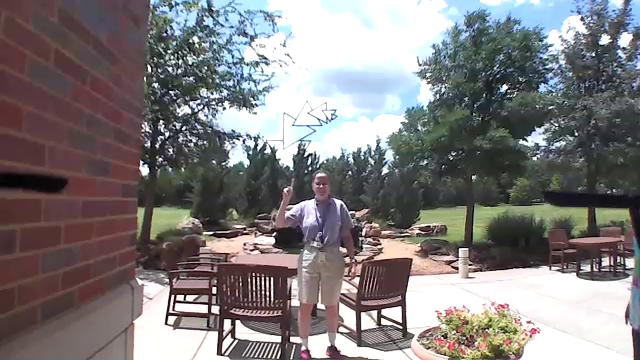up: (280, 175, 298, 202)
